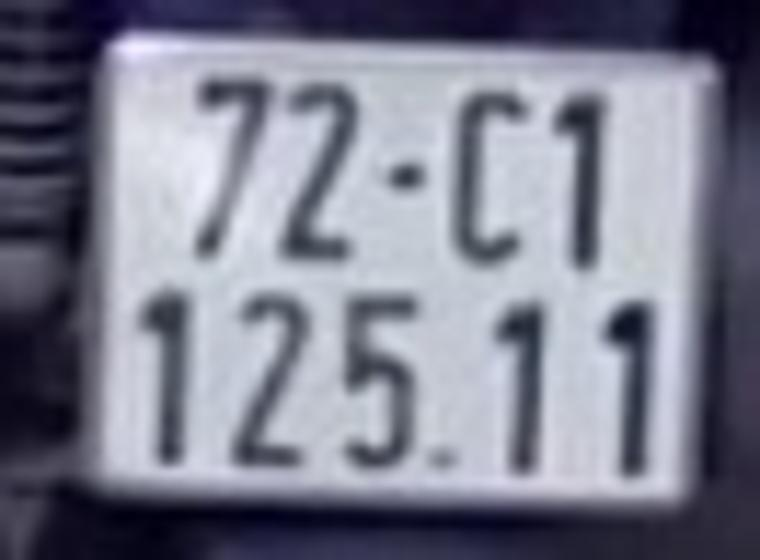-: (379, 160, 421, 190)
.: (135, 289, 191, 464), (425, 446, 457, 468)
1: (491, 299, 545, 473), (601, 296, 649, 480), (555, 89, 602, 271)
2: (230, 291, 308, 466), (283, 83, 351, 265)
5: (339, 293, 417, 463)
7: (187, 75, 264, 267)
C: (447, 88, 520, 259)
